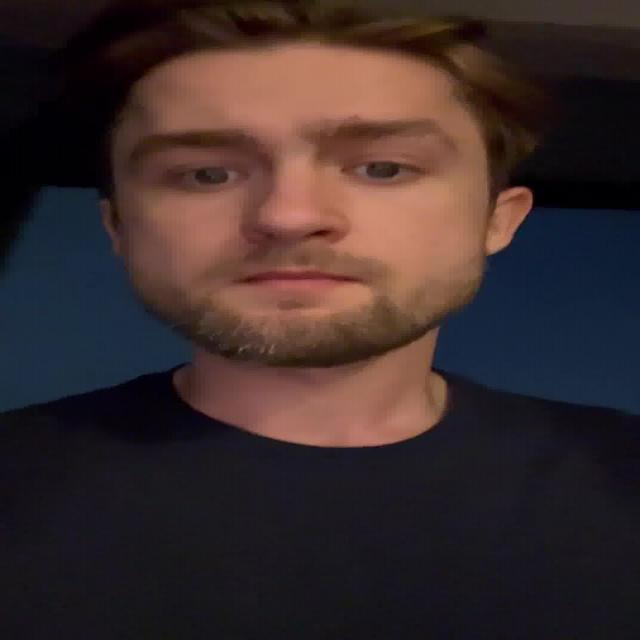earlobe: (484, 232, 514, 257)
eye: (348, 159, 421, 183), (173, 166, 251, 188)
nose: (245, 234, 346, 271)
wholeear: (484, 187, 534, 257), (95, 198, 126, 259)
